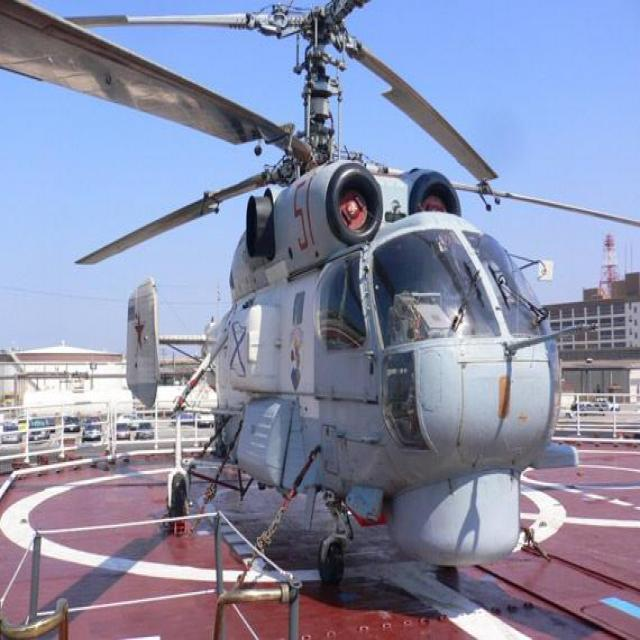MIL_HELO: (27, 12, 640, 602)
